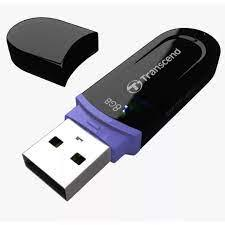Flash-drive: (3, 7, 225, 207)
